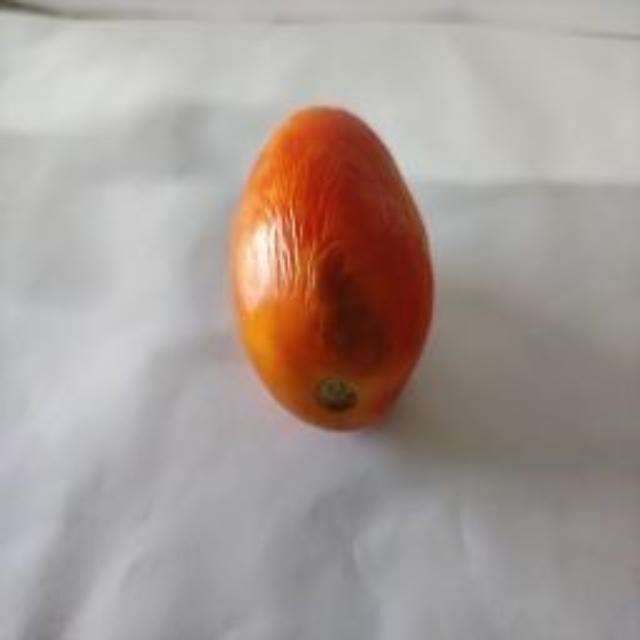defect: (227, 98, 440, 450)
